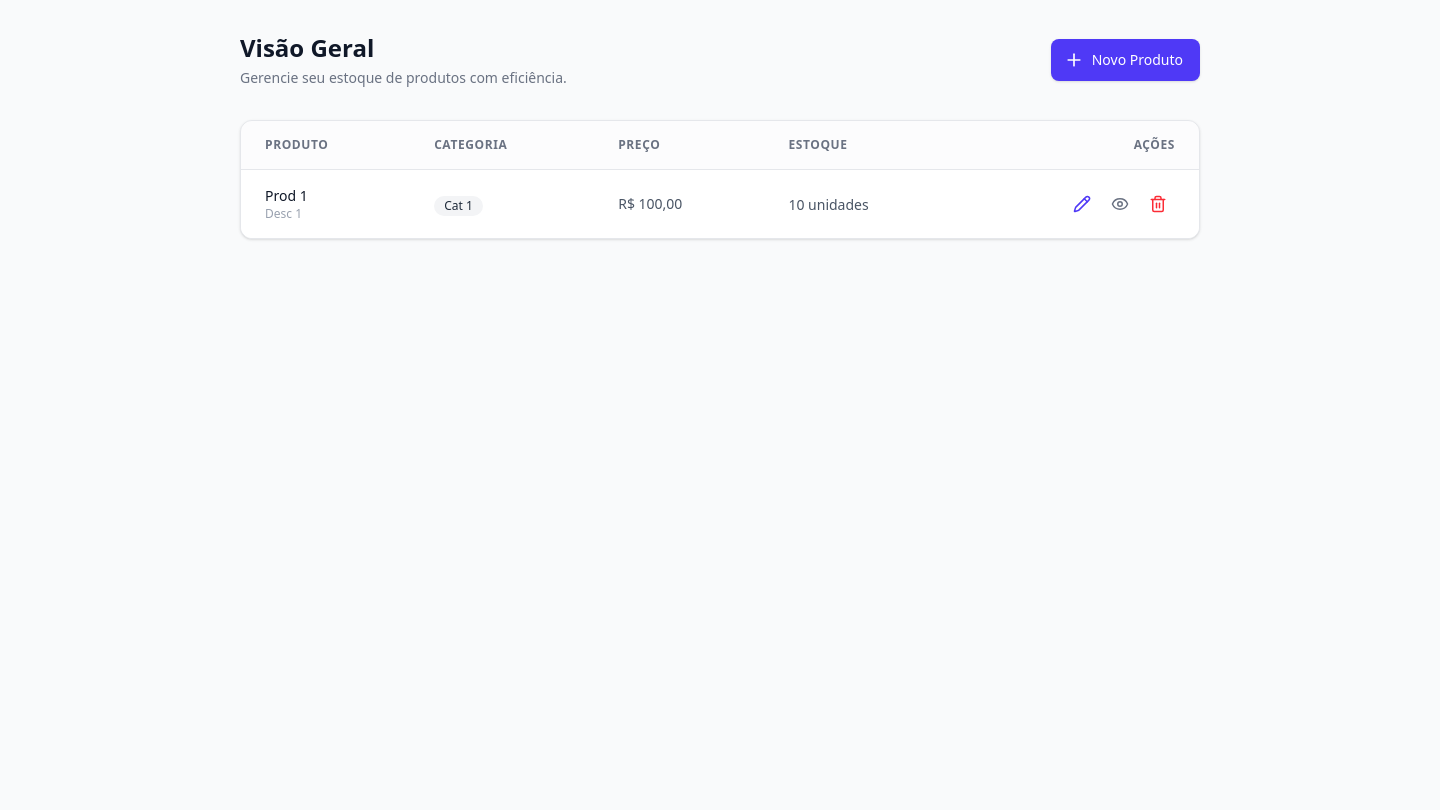
Scenario: ProductManager Page › deletes product after confirmation
Click the button titled "Excluir": click(1158, 204) [1141,187,1175,221]
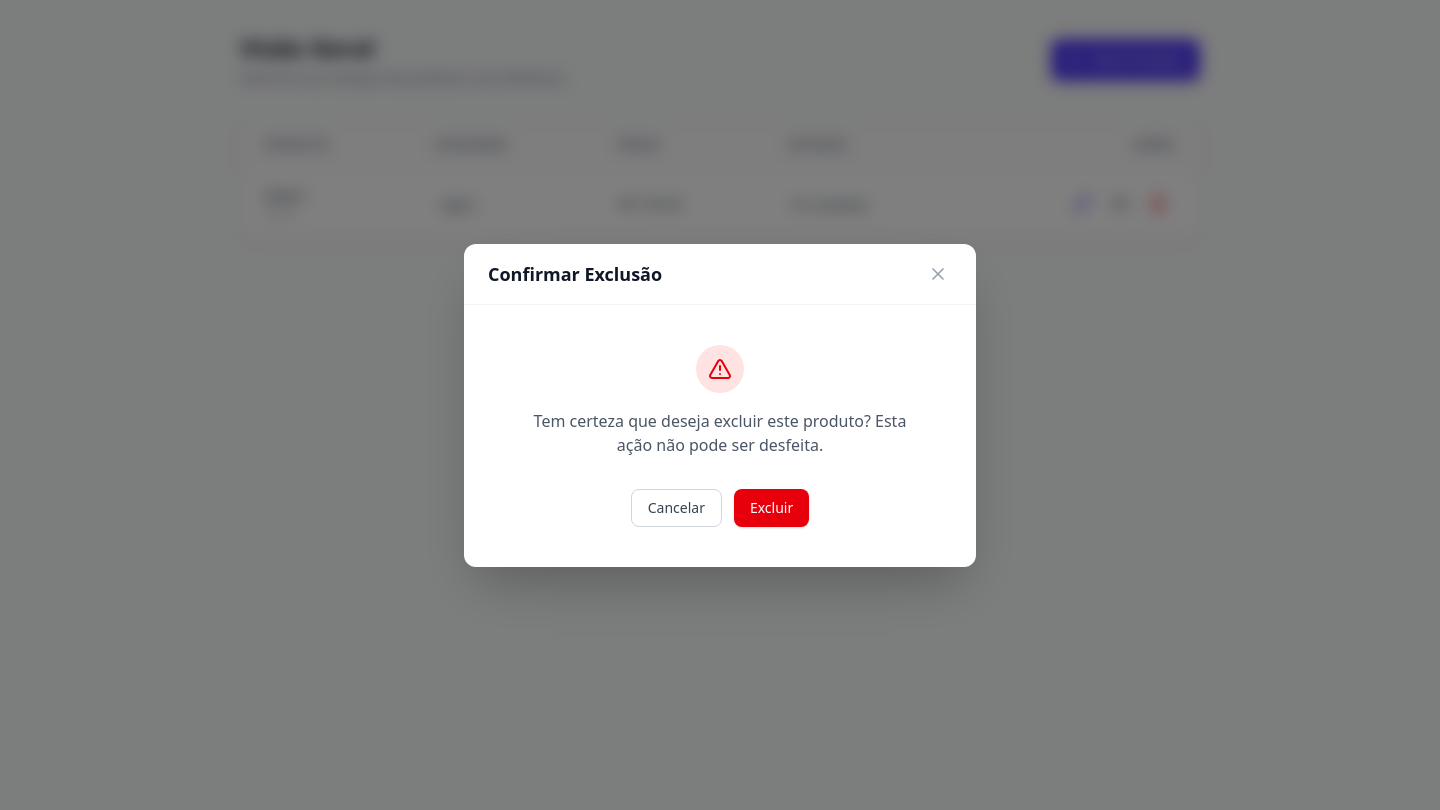
Expected: the heading "Confirmar Exclusão" is shown, [488,260,662,288]
Click the button "Excluir": click(772, 508) [734,488,809,526]
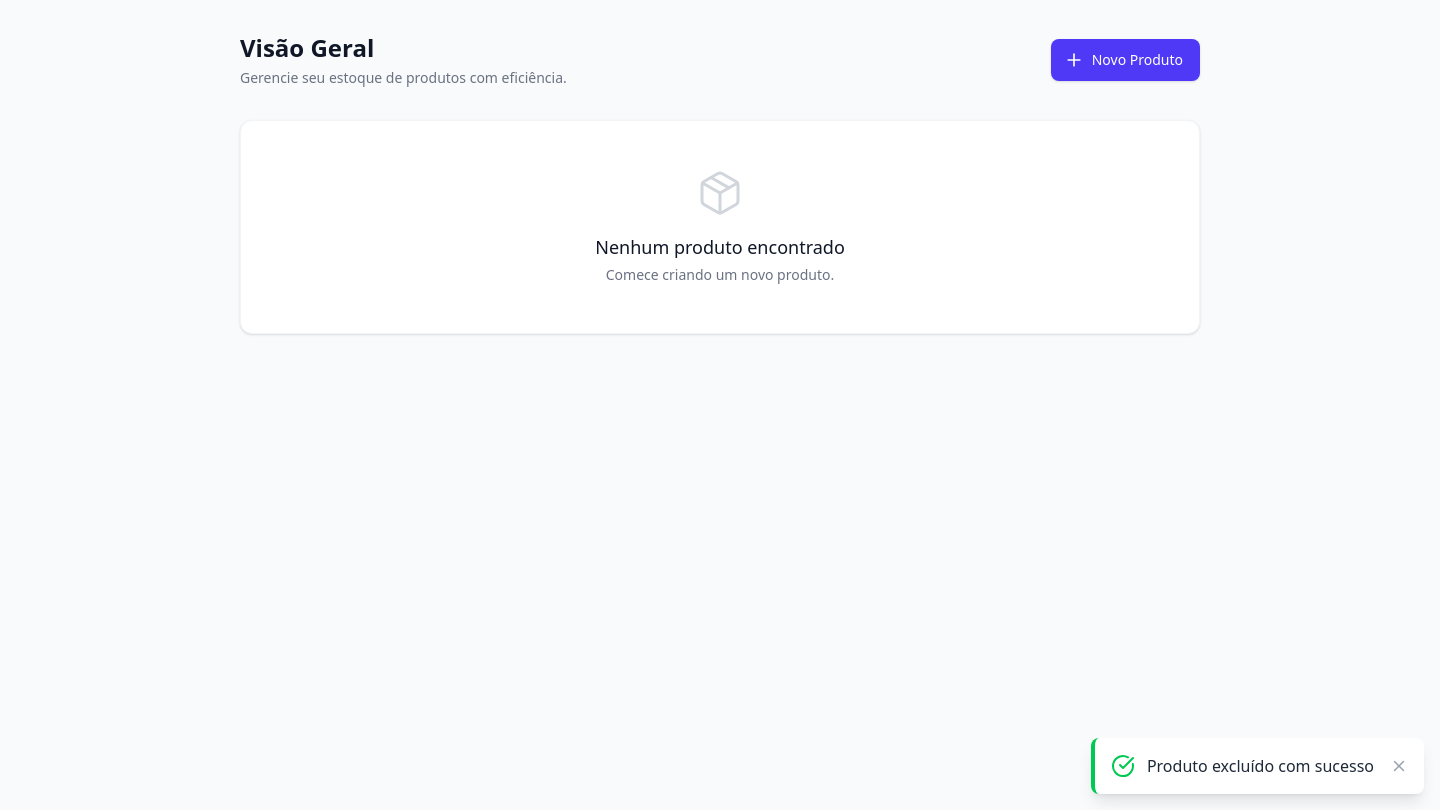
Expected: the text "Produto excluído com sucesso" is shown, [1147,754,1374,778]
